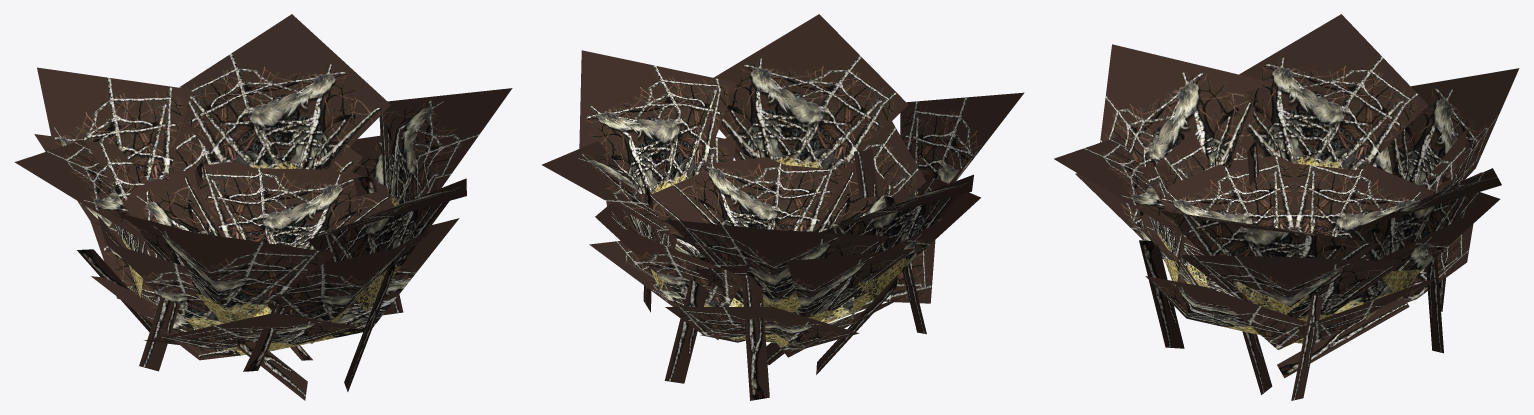
The model's file is poi_all_lair_nest_large_l1.fbx.
The picture shows the model from 3 angles, left to right: view 1: azimuth 30°, elevation 25°; view 2: azimuth 150°, elevation 25°; view 3: azimuth 270°, elevation 25°; orthographic projection. The views are drawn at different scales.
Parts seen in each view (by area): view 1: mesh_node; view 2: mesh_node; view 3: mesh_node.
Part boxes in pixels (x1,y1,x2,y2): mesh_node: (14,14,512,400); mesh_node: (542,14,1024,400); mesh_node: (1054,14,1519,400).
Size of the model in its own units: 6.56 by 3.76 by 6.05.
